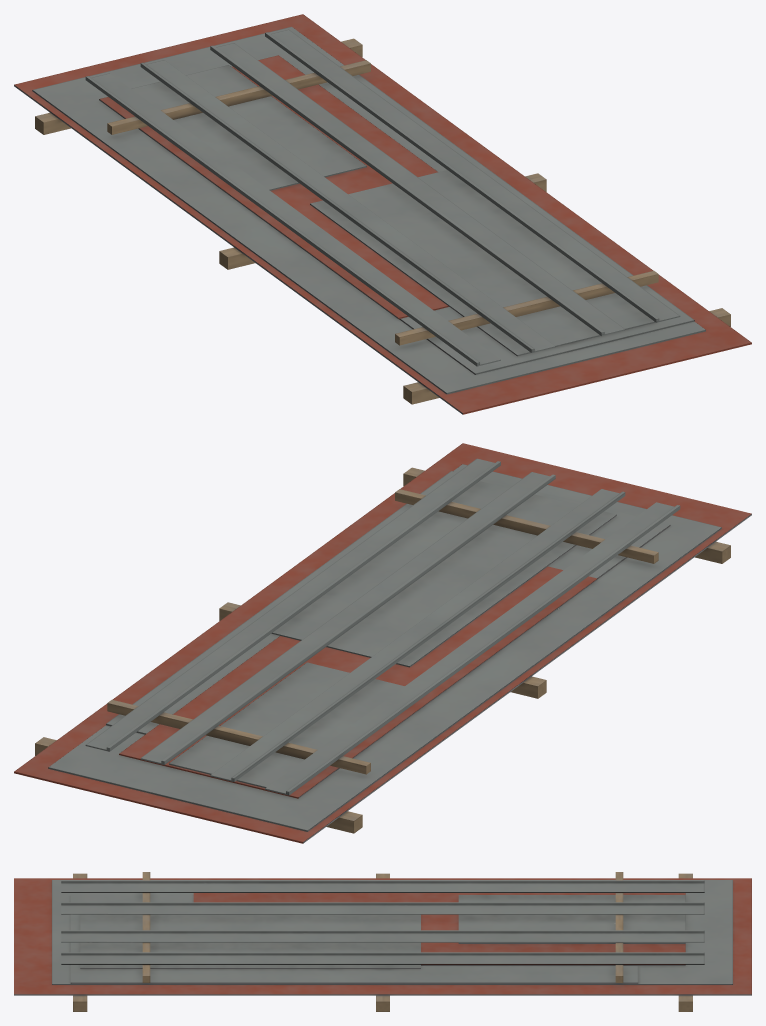
Rendered from PlateKit.fbx.
3 views of the same model, one above another, from view 1: azimuth 30°, elevation 25°; view 2: azimuth 150°, elevation 25°; view 3: azimuth 270°, elevation 25° (orthographic). The views are drawn at different scales.
Visible parts, largest first — view 1: PlateKit_LOD0; view 2: PlateKit_LOD0; view 3: PlateKit_LOD0.
Part boxes in pixels (x1,y1,x2,y2): PlateKit_LOD0: [14, 14, 751, 414]; PlateKit_LOD0: [14, 443, 751, 843]; PlateKit_LOD0: [14, 872, 751, 1011].
Size of what is drawn, in the model's own units: 3.2 by 0.315 by 7.8.
Materials: 1 (1 with a texture image).
